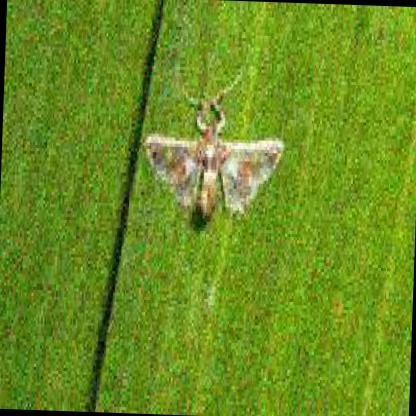leucinodes: (143, 114, 285, 219)
